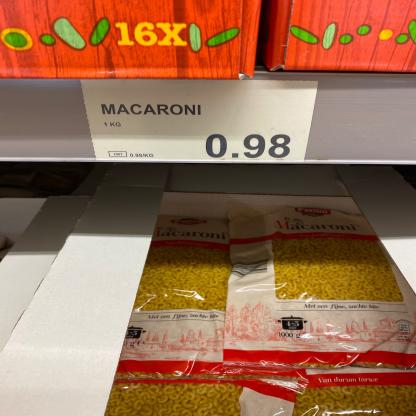prtg: (82, 81, 319, 163)
